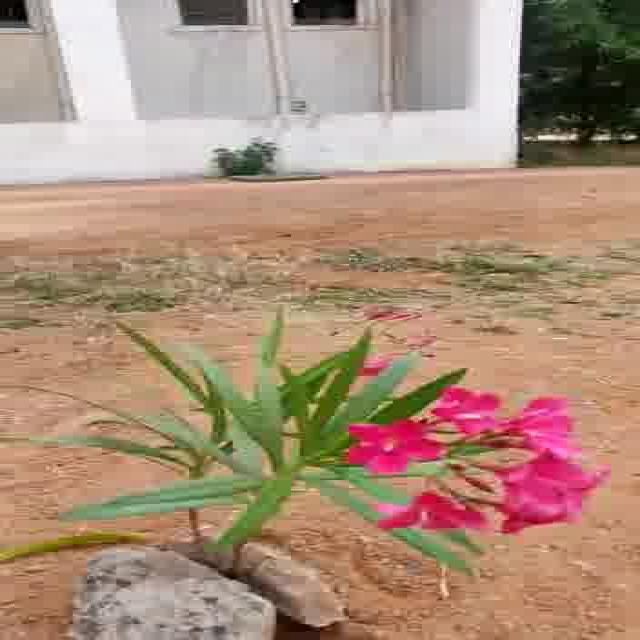Oleander: (76, 314, 640, 574)
